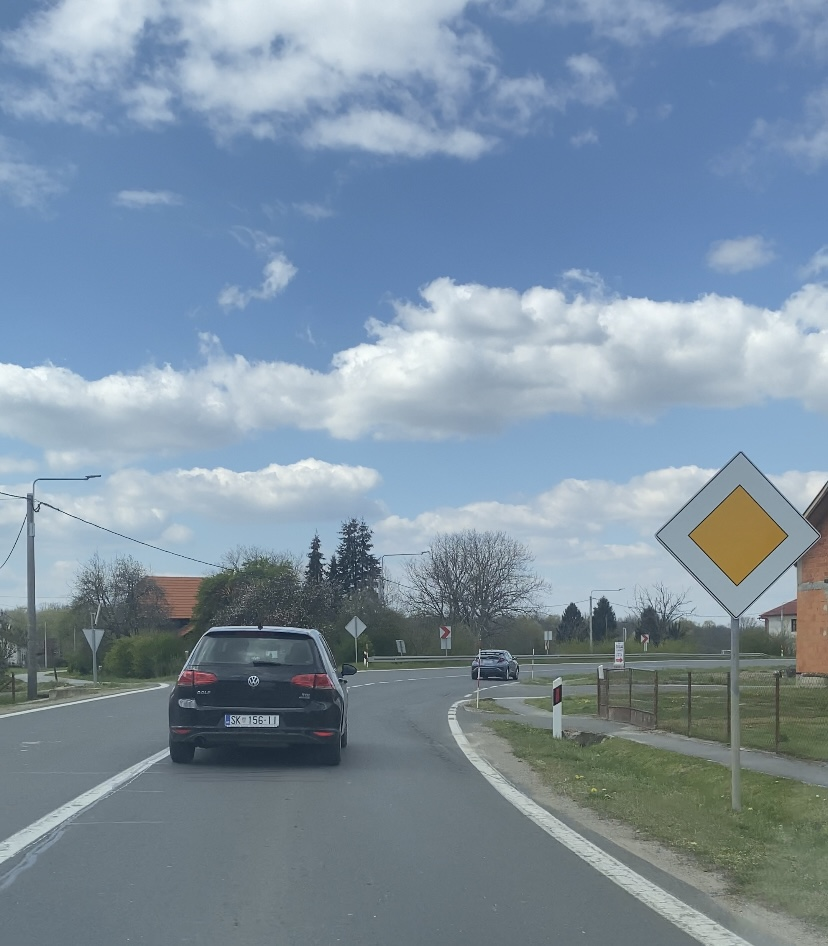Cesta s prednošću prolaska: (656, 450, 821, 618)
